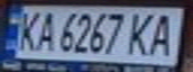2: (72, 10, 93, 55)
6: (87, 10, 112, 55), (54, 9, 78, 54)
7: (103, 9, 130, 55)
A: (145, 10, 184, 57), (33, 8, 60, 53)
K: (124, 9, 160, 57), (12, 8, 42, 53)
